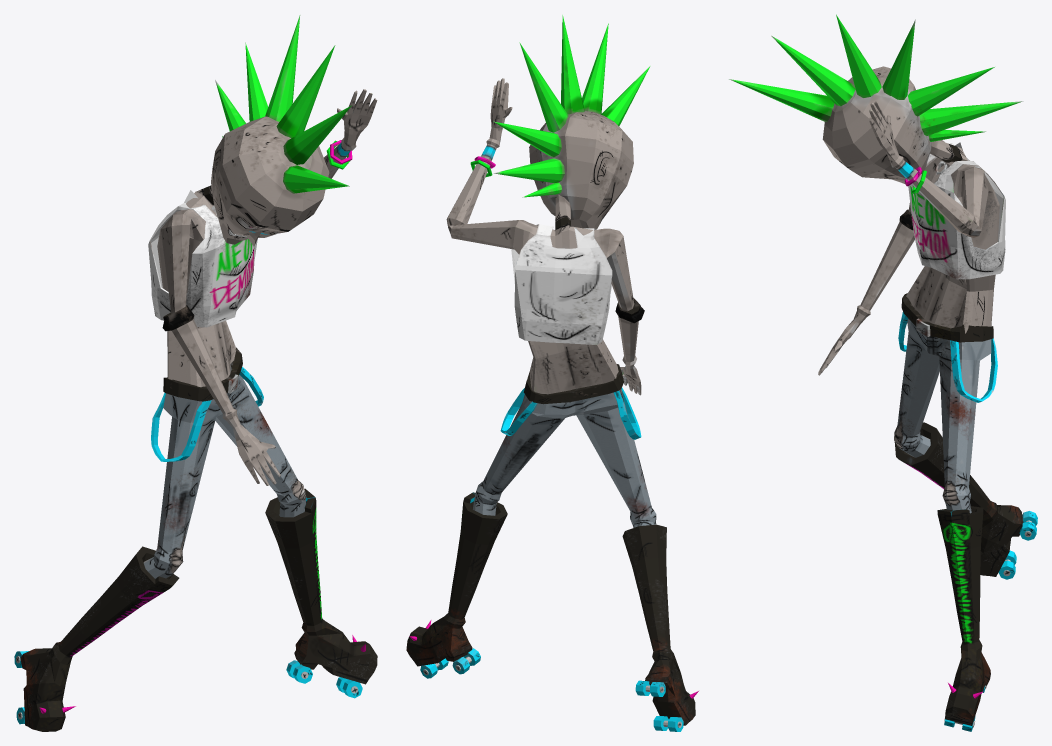
The model's file is punkAnimation_000042.obj.
3 views of the same model, side by side, from view 1: azimuth 30°, elevation 25°; view 2: azimuth 150°, elevation 25°; view 3: azimuth 270°, elevation 25° (orthographic). The views are drawn at different scales.
Parts seen in each view (by area): view 1: Cube.004_Cube.003; view 2: Cube.004_Cube.003; view 3: Cube.004_Cube.003.
Part boxes in pixels (left/top/right/bottom): Cube.004_Cube.003: left=14, top=15, right=377, bottom=731; Cube.004_Cube.003: left=406, top=15, right=698, bottom=731; Cube.004_Cube.003: left=729, top=14, right=1037, bottom=731.
Bounding box in the file's own units: 3.42 × 7.1 × 2.93.
